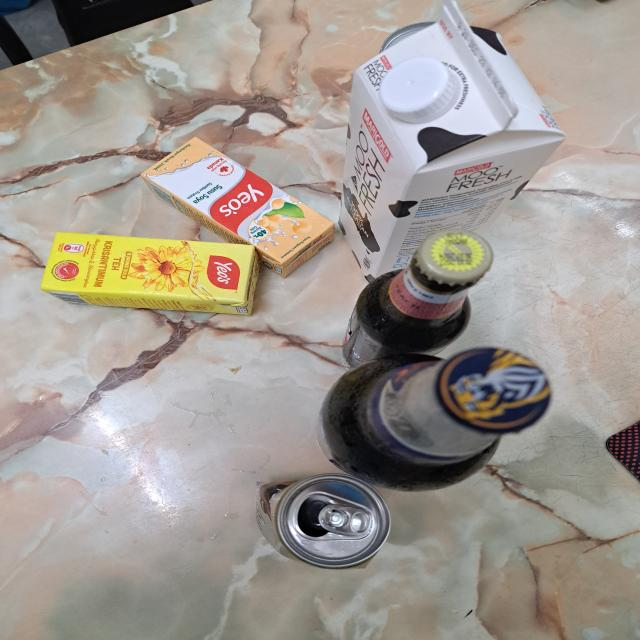can: (254, 474, 392, 569)
drink carton: (338, 1, 568, 284), (139, 136, 337, 278), (42, 232, 261, 315)
glass bottle: (318, 346, 557, 492), (342, 228, 494, 372)
plastic bottle cap: (379, 57, 461, 123)
pop tab: (318, 504, 372, 537)
